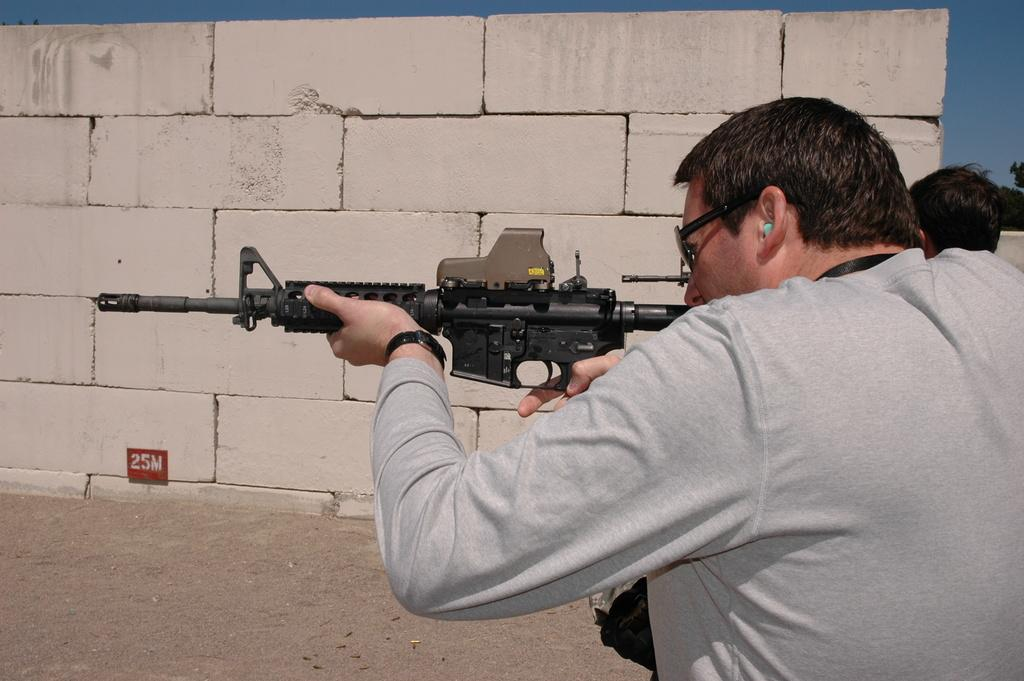Rifle: (96, 227, 691, 391), (622, 259, 692, 287)
